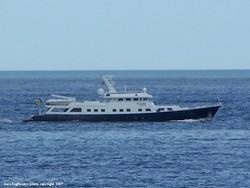yacht: (34, 71, 229, 123)
